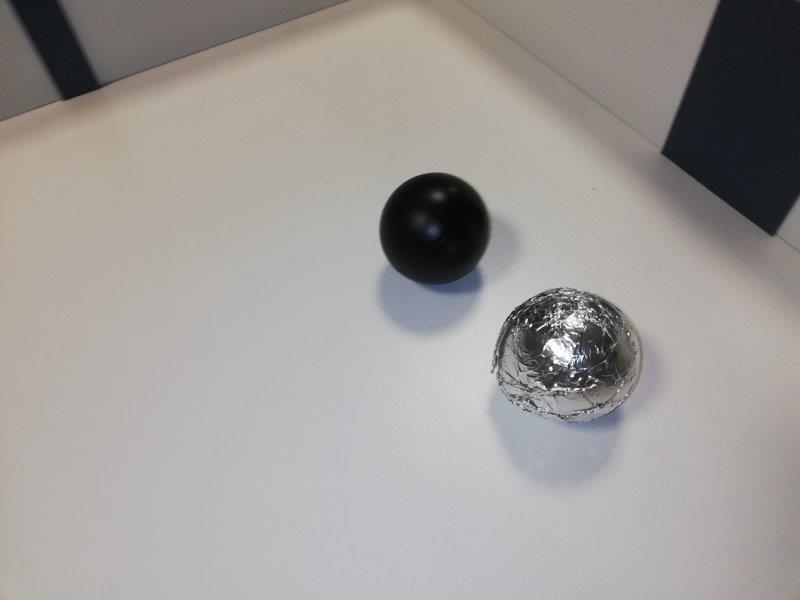bianca: (493, 285, 644, 426)
nera: (378, 171, 489, 283)
